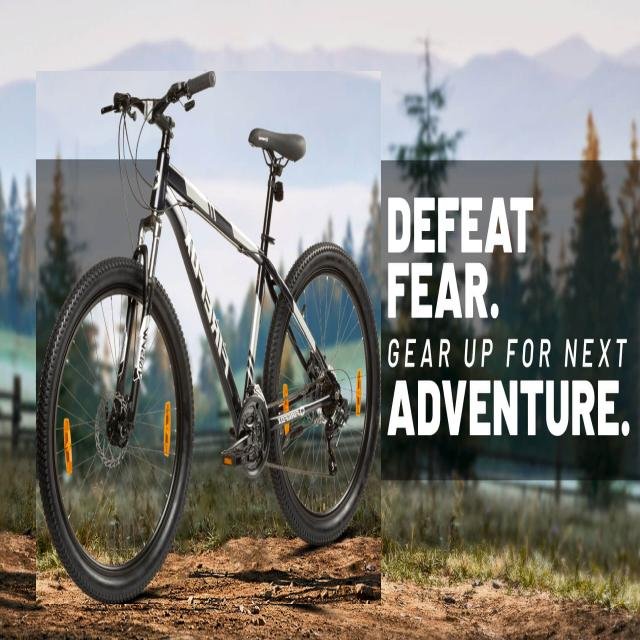bicycle: (36, 72, 381, 604)
